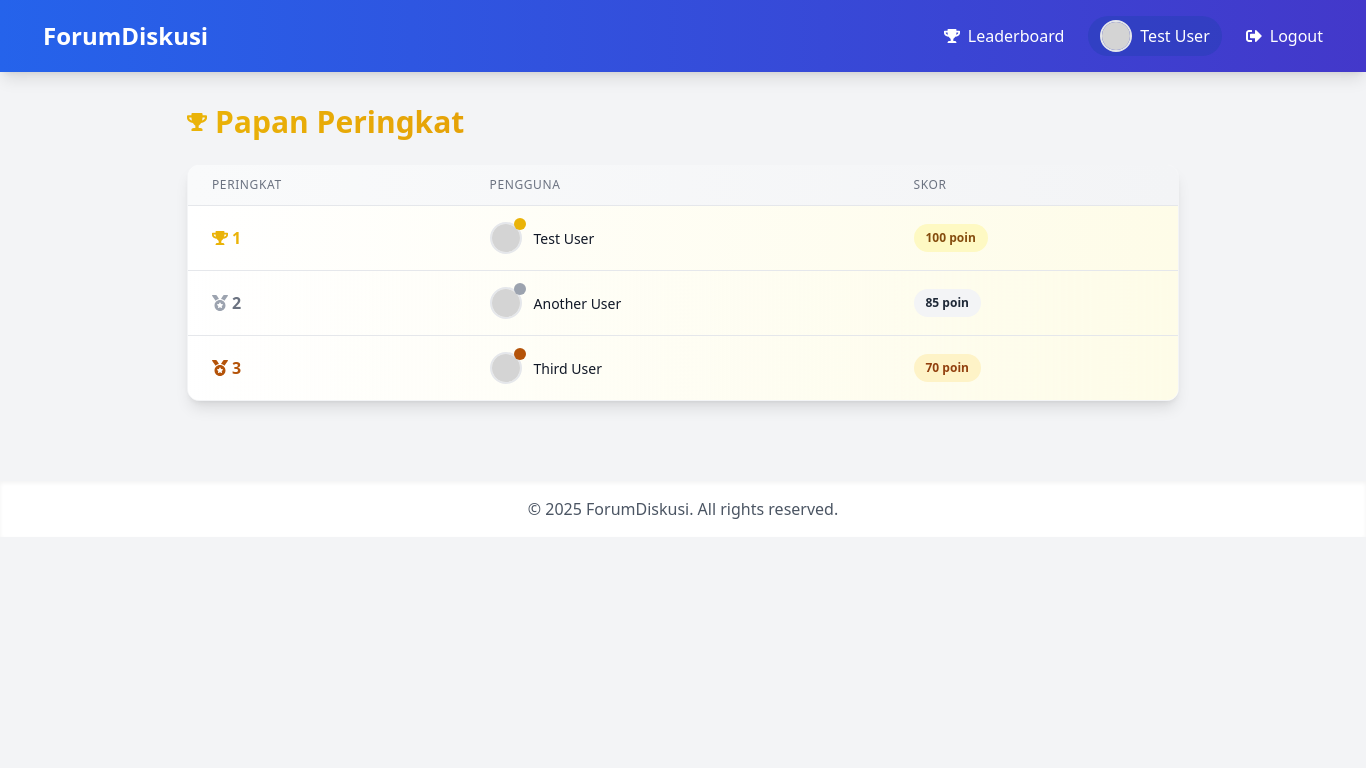
Test case: Leaderboard Flow › should navigate to user profile when username is clicked
Klik username pada item leaderboard kedua
Click the link with test id "user-name" showing "Another User": (578, 304) [534,294,622,313]
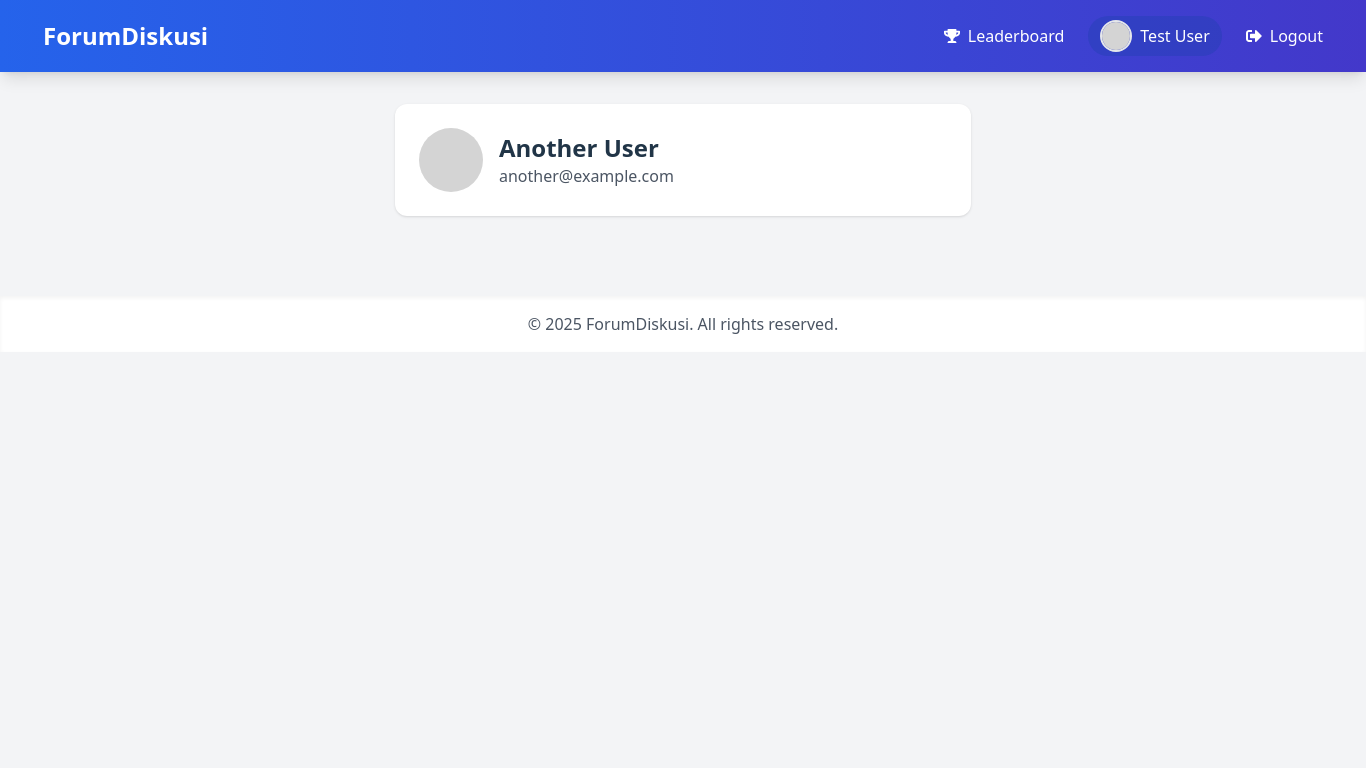
Expected: the element with test id "user-profile" is shown, [395,104,971,216]
Expected: the heading with test id "user-profile" reads "Another User", [499,131,659,164]
